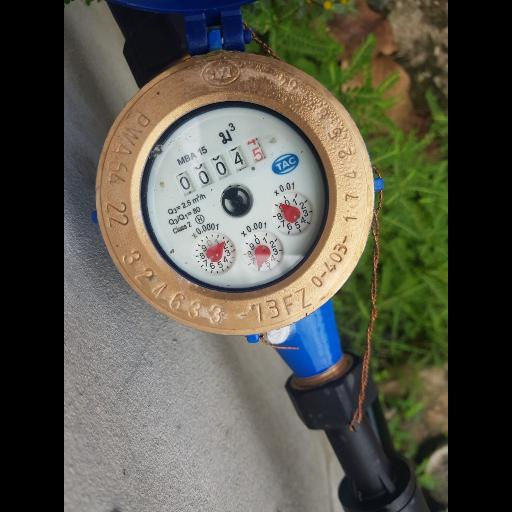0: (191, 161, 214, 189), (209, 153, 232, 181), (174, 170, 197, 196)
4: (226, 144, 250, 173)
5: (244, 136, 268, 165)
border_water_meter_number: (171, 132, 274, 202)
